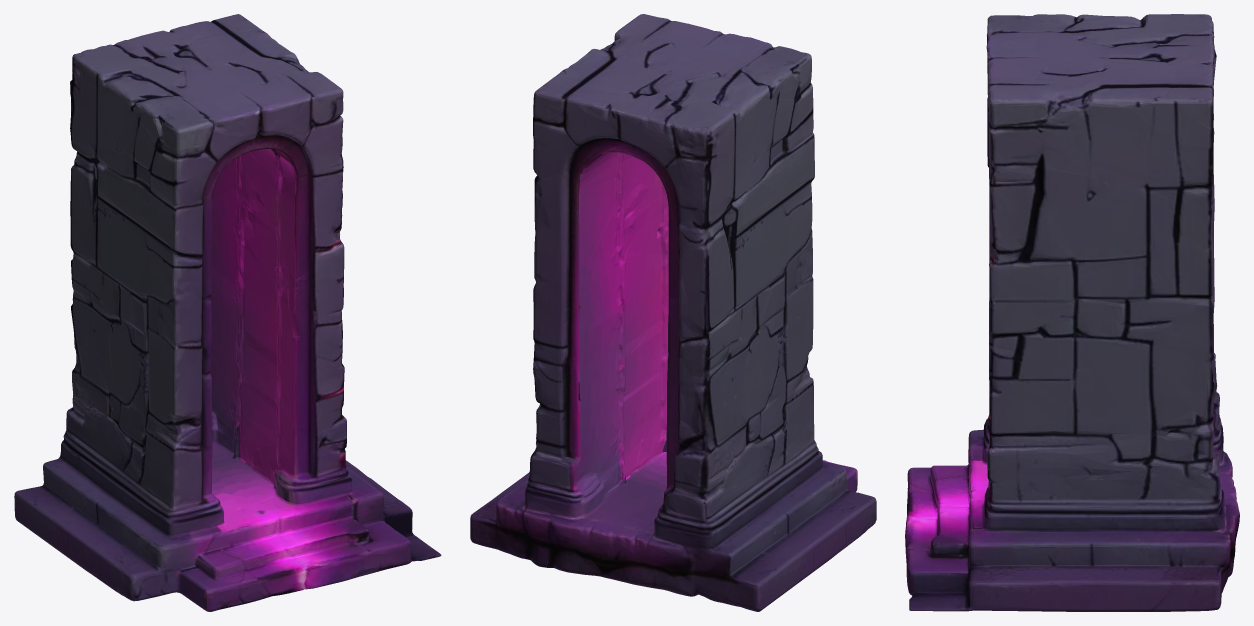
The model's file is solitude-pillar-12-generated-2026-04-19T23-57-40-585Z.medium.glb.
The picture shows the model from 3 angles, left to right: view 1: azimuth 30°, elevation 25°; view 2: azimuth 150°, elevation 25°; view 3: azimuth 270°, elevation 25°; orthographic projection. The views are drawn at different scales.
Visible parts, largest first — view 1: temp_mesh.ply; view 2: temp_mesh.ply; view 3: temp_mesh.ply.
Boxes of the visible parts, <box> form: temp_mesh.ply: <box>14,14,441,611</box>; temp_mesh.ply: <box>470,14,876,611</box>; temp_mesh.ply: <box>905,14,1239,611</box>.
Size of the model in its own units: 1.28 by 1.97 by 1.24.
1 material, 1 textured.
